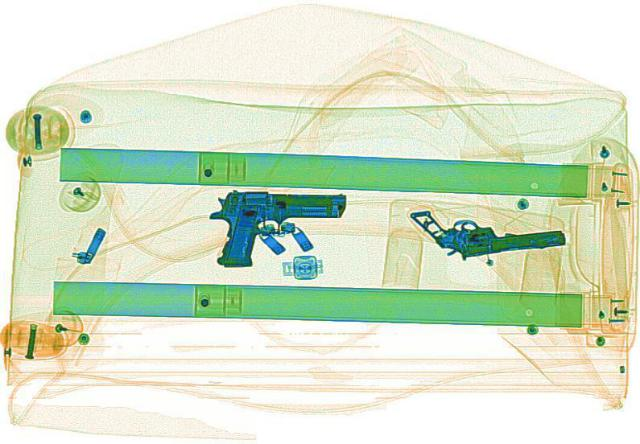Gun: (202, 189, 346, 267), (407, 196, 567, 260)
